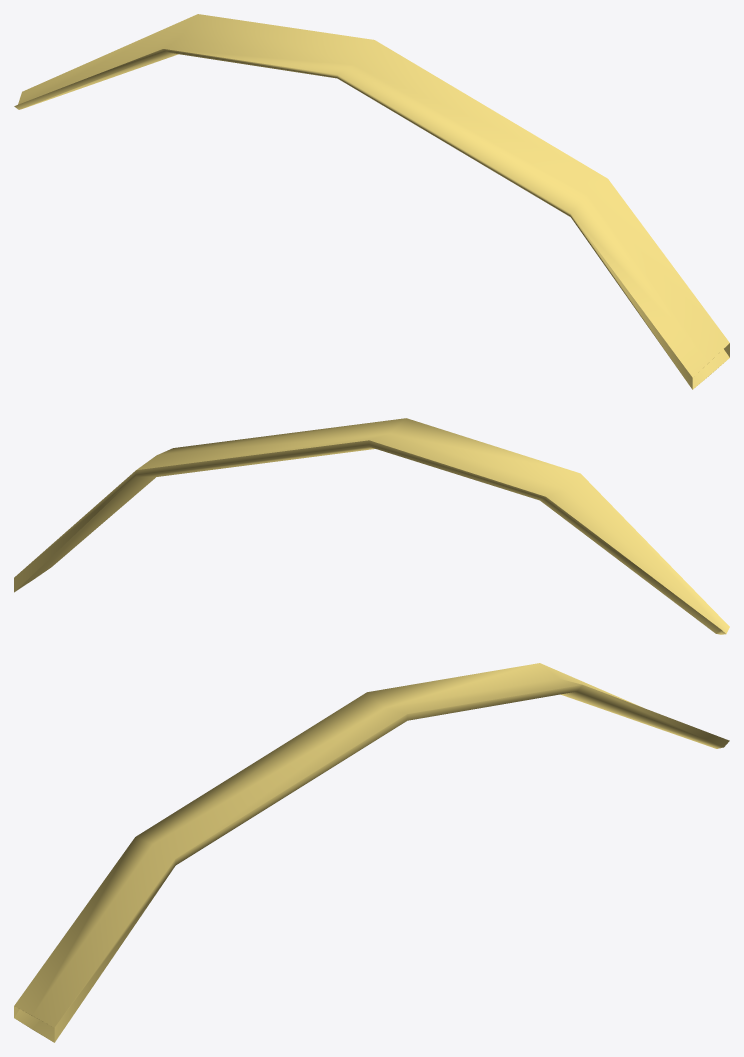
The model's file is Adventure-Mais-Blatt2.fbx.
The picture shows the model from 3 angles, top to bottom: view 1: azimuth 30°, elevation 25°; view 2: azimuth 210°, elevation 25°; view 3: azimuth 270°, elevation 25°; orthographic projection.
Visible parts, largest first — view 1: Polygon; view 2: Polygon; view 3: Polygon.
Part boxes in pixels (x1,y1,x2,y2): Polygon: [14, 14, 729, 389]; Polygon: [14, 418, 729, 634]; Polygon: [14, 663, 729, 1042].
Bounding box in the file's own units: 10.65 × 6.22 × 16.64.
